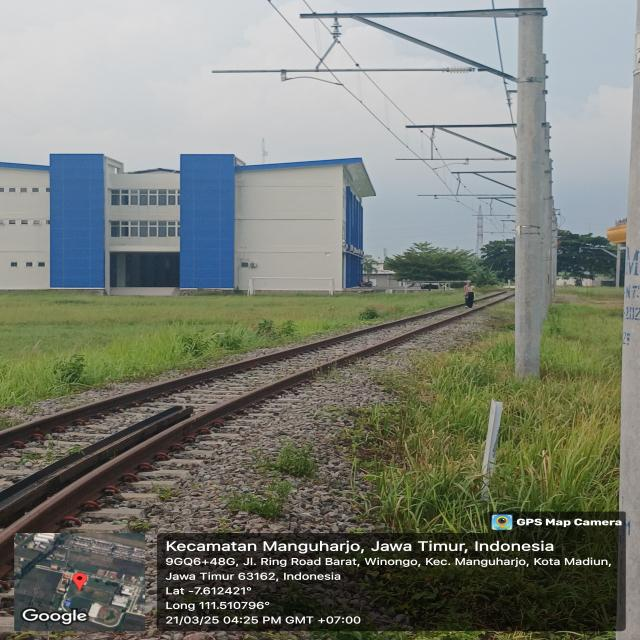rail-detection: (0, 292, 514, 567)
